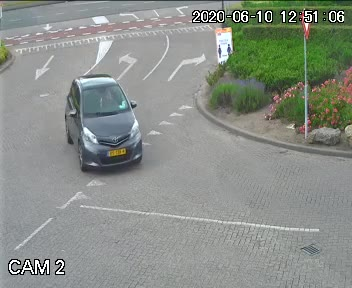car: (55, 59, 141, 185)
